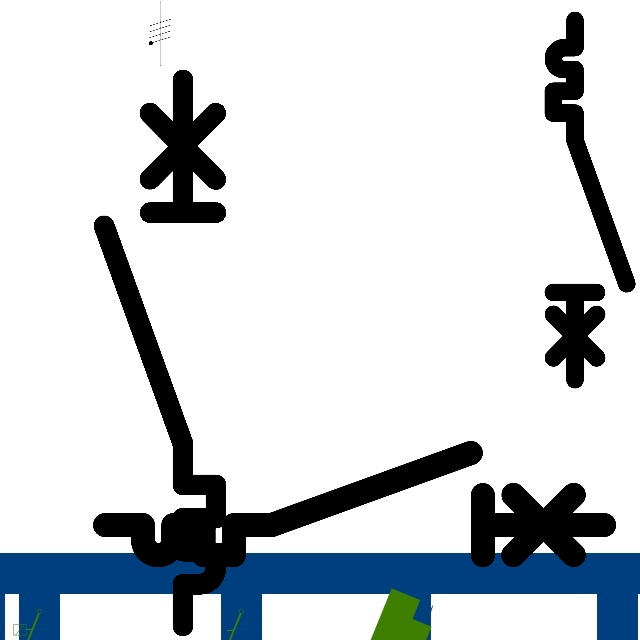interruptor_termomagnetico: (90, 65, 230, 639), (92, 440, 617, 568), (544, 11, 636, 389)
